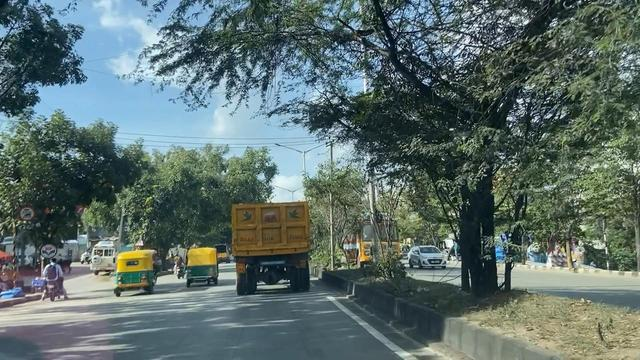HMV: (235, 203, 310, 292)
LMV: (118, 248, 163, 298), (182, 246, 220, 287), (43, 259, 68, 302)
